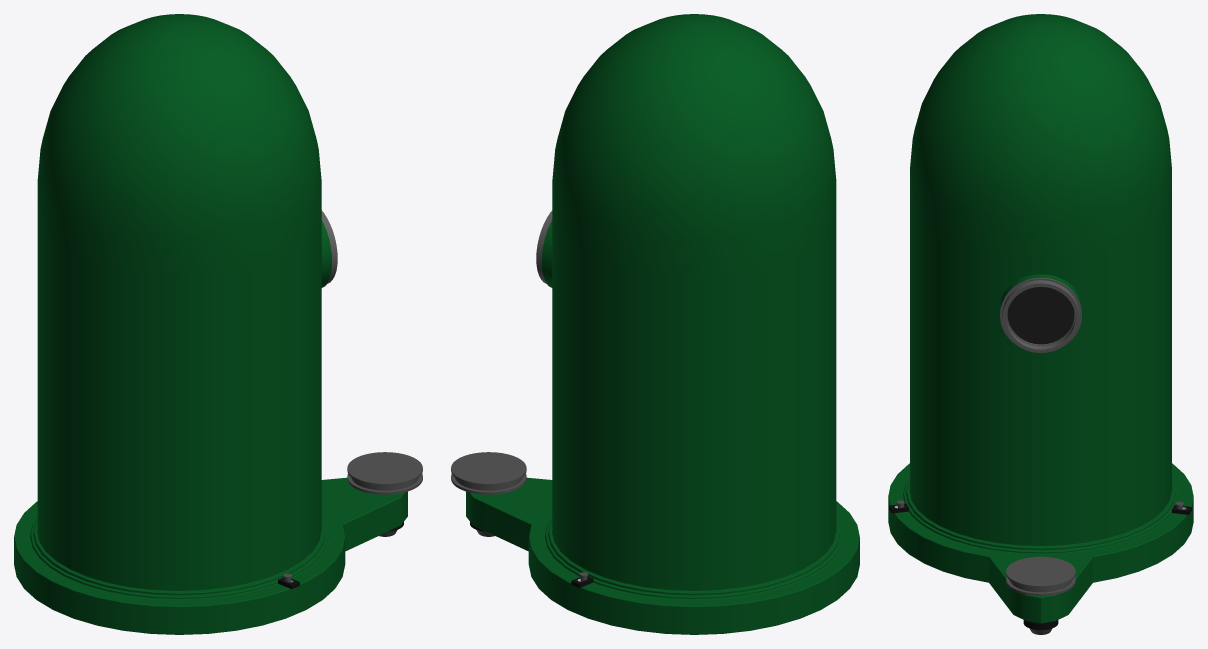
3 renders of one model, left to right at view 1: azimuth 30°, elevation 25°; view 2: azimuth 150°, elevation 25°; view 3: azimuth 270°, elevation 25°, orthographic. The views are drawn at different scales.
Parts seen in each view (by area): view 1: 胶囊, 内嵌螺丝, 透镜; view 2: 胶囊, 内嵌螺丝, 透镜; view 3: 胶囊, 透镜, 内嵌螺丝.
Part boxes in pixels (<box>): 胶囊: <box>14,14,407,634</box>; 内嵌螺丝: <box>347,452,422,536</box>; 透镜: <box>321,210,337,287</box>; 胶囊: <box>466,14,859,634</box>; 内嵌螺丝: <box>451,452,526,536</box>; 透镜: <box>536,210,552,287</box>; 胶囊: <box>888,14,1193,623</box>; 透镜: <box>999,274,1082,353</box>; 内嵌螺丝: <box>1006,556,1075,634</box>.
Bounding box in the file's own units: 93.19 × 130 × 70.03.
